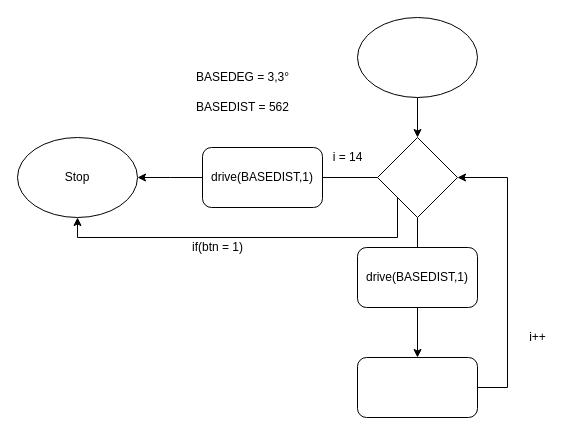
This 570x435 diagram has some shape labels left out. The centre of each missing label's shape, as x and y in pixels:
"Start" goes at pixel 417 57.
"turn(BASEDIST,+-1)" goes at pixel 417 387.
